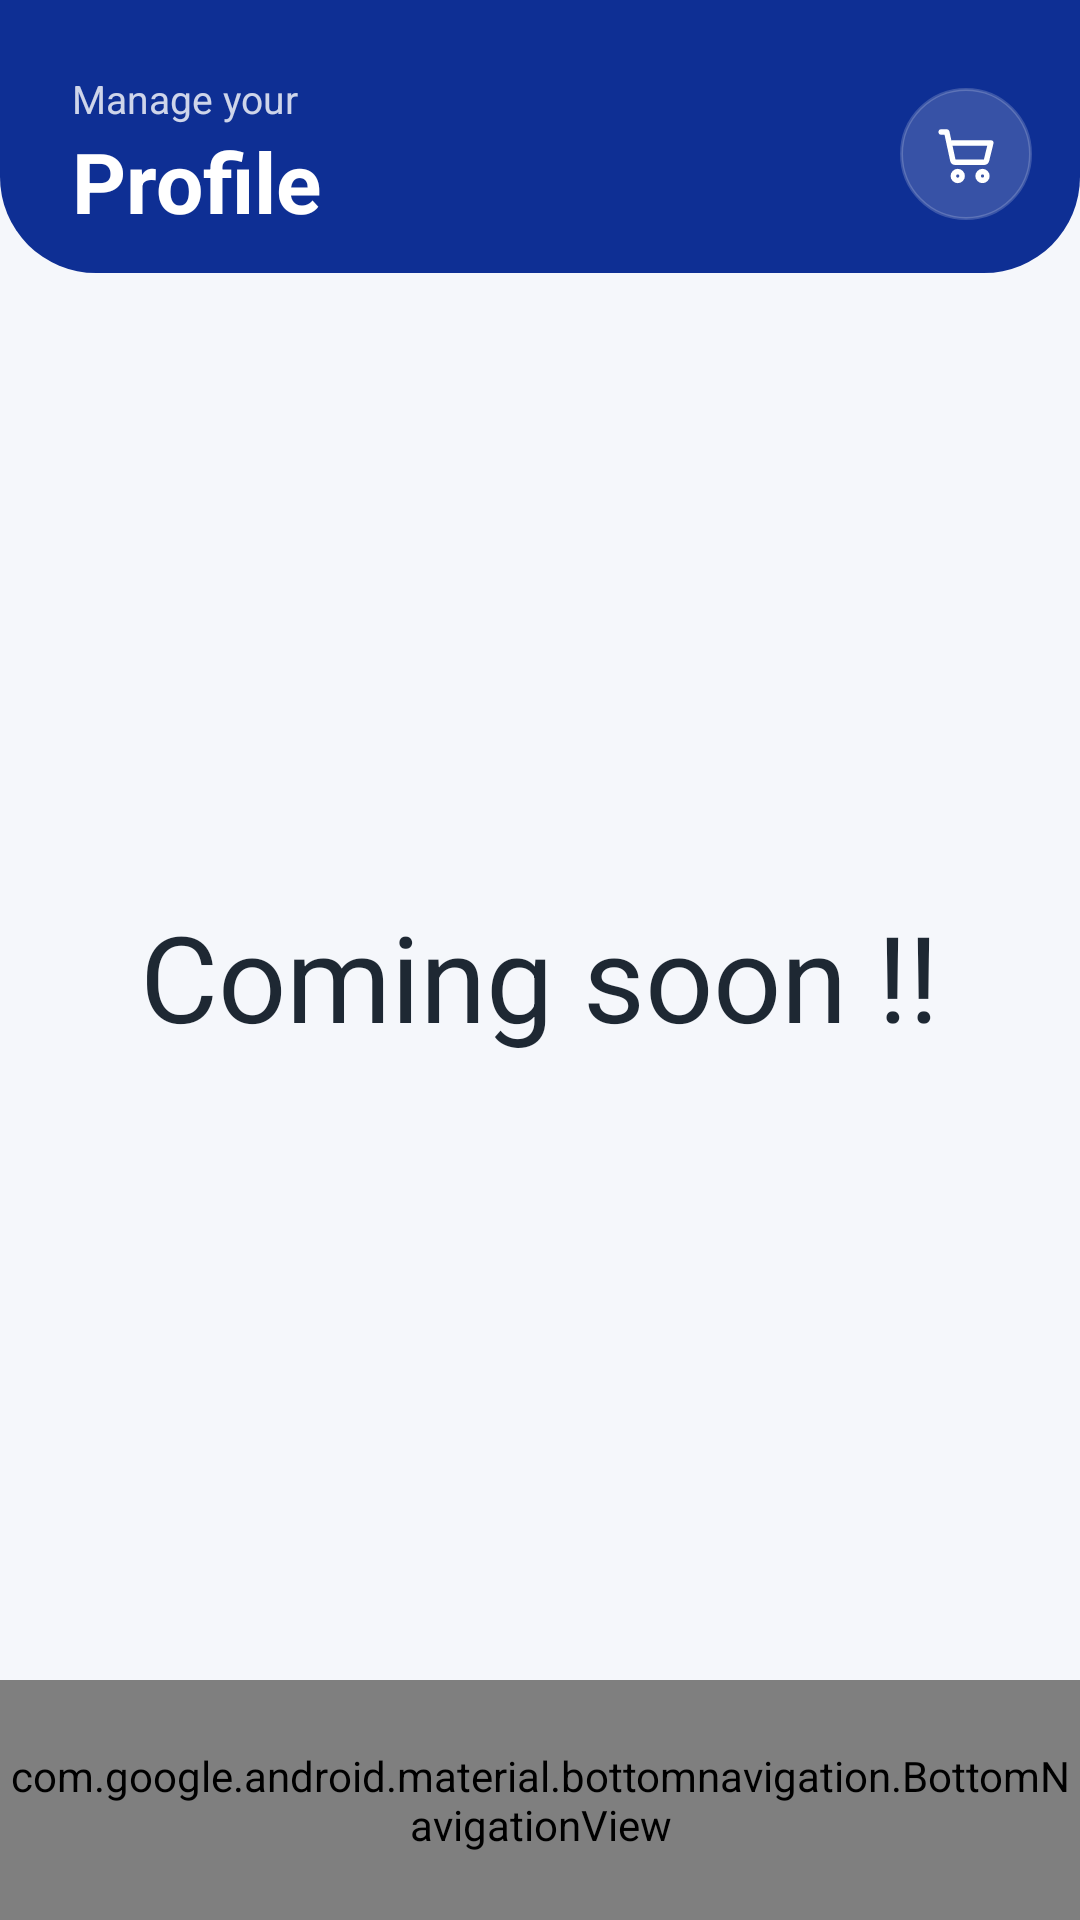

Point at icon controls on the screen. Image size 1080x1920, points as (x=x, y=y).
Cart: (x=966, y=154)
